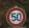Speed Limit -50-: (0, 0, 28, 27)
